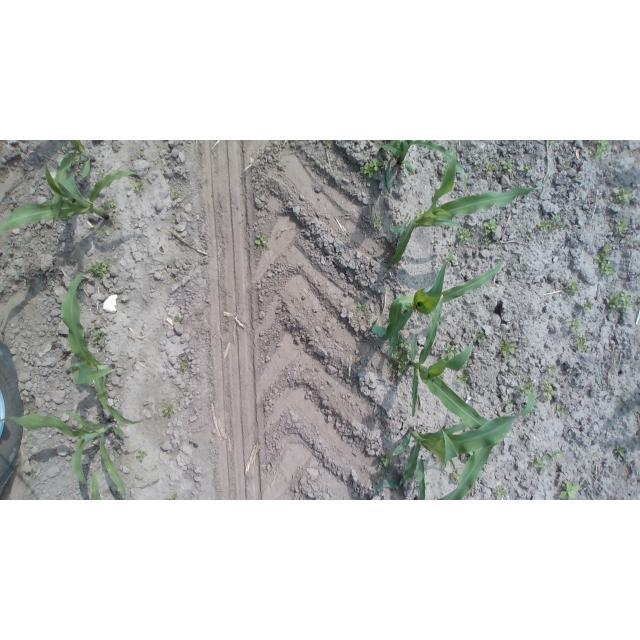Maize: (375, 143, 549, 269), (377, 368, 537, 488), (409, 294, 513, 438), (371, 254, 504, 359), (60, 268, 146, 424), (1, 410, 128, 500), (0, 163, 142, 234), (415, 443, 498, 500), (379, 140, 468, 190), (52, 140, 96, 228), (87, 469, 101, 500)
Weeds: (530, 450, 566, 477), (592, 241, 616, 278), (607, 289, 636, 311), (536, 212, 566, 232), (358, 158, 383, 179), (559, 479, 581, 500), (589, 140, 612, 160), (388, 357, 411, 377), (614, 187, 634, 206), (94, 260, 110, 279), (543, 379, 556, 400), (565, 319, 583, 334), (255, 234, 270, 251), (484, 217, 498, 235), (575, 333, 588, 352), (500, 341, 516, 356), (441, 343, 456, 359), (565, 279, 579, 296), (615, 219, 629, 236), (380, 450, 394, 466), (399, 335, 410, 354), (501, 159, 514, 175), (457, 227, 471, 241), (494, 485, 507, 500), (456, 374, 471, 386), (486, 161, 498, 176), (520, 384, 533, 397), (556, 404, 570, 416), (615, 443, 626, 458), (91, 329, 103, 341), (137, 450, 149, 462), (373, 215, 385, 227), (163, 405, 176, 416), (452, 469, 461, 484), (546, 362, 557, 374), (582, 301, 595, 311), (474, 334, 485, 345), (170, 191, 183, 200), (444, 253, 457, 262), (134, 182, 145, 192), (107, 198, 117, 208), (174, 313, 184, 323), (358, 301, 367, 312), (562, 160, 571, 170), (180, 360, 188, 371), (95, 168, 103, 178), (573, 174, 583, 182), (96, 227, 104, 236), (440, 163, 447, 173), (76, 157, 84, 165), (169, 492, 177, 500), (507, 400, 514, 409), (417, 207, 423, 217), (109, 216, 117, 223), (485, 236, 492, 244), (395, 351, 402, 359), (627, 236, 633, 245), (505, 356, 512, 363), (474, 163, 481, 170), (98, 340, 106, 346), (524, 164, 530, 172), (496, 252, 502, 260), (591, 453, 597, 460), (325, 141, 331, 148), (378, 475, 386, 480), (153, 464, 158, 471), (77, 250, 82, 255), (549, 141, 555, 144), (141, 152, 144, 157)
